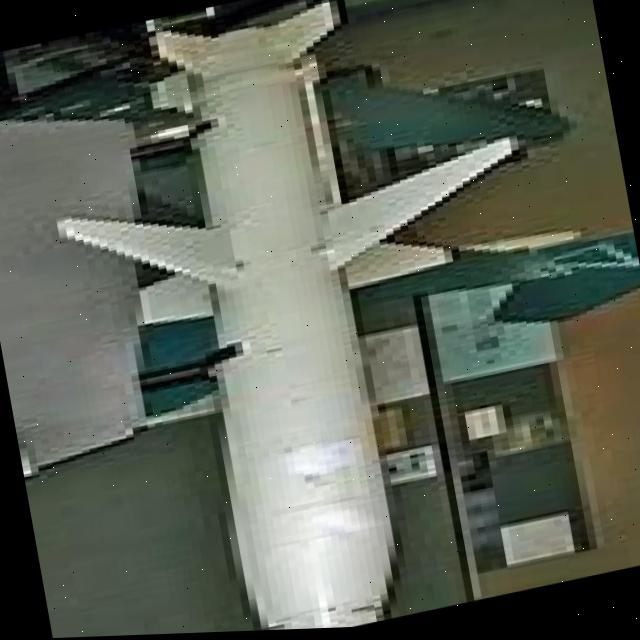missile: (21, 0, 600, 639)
